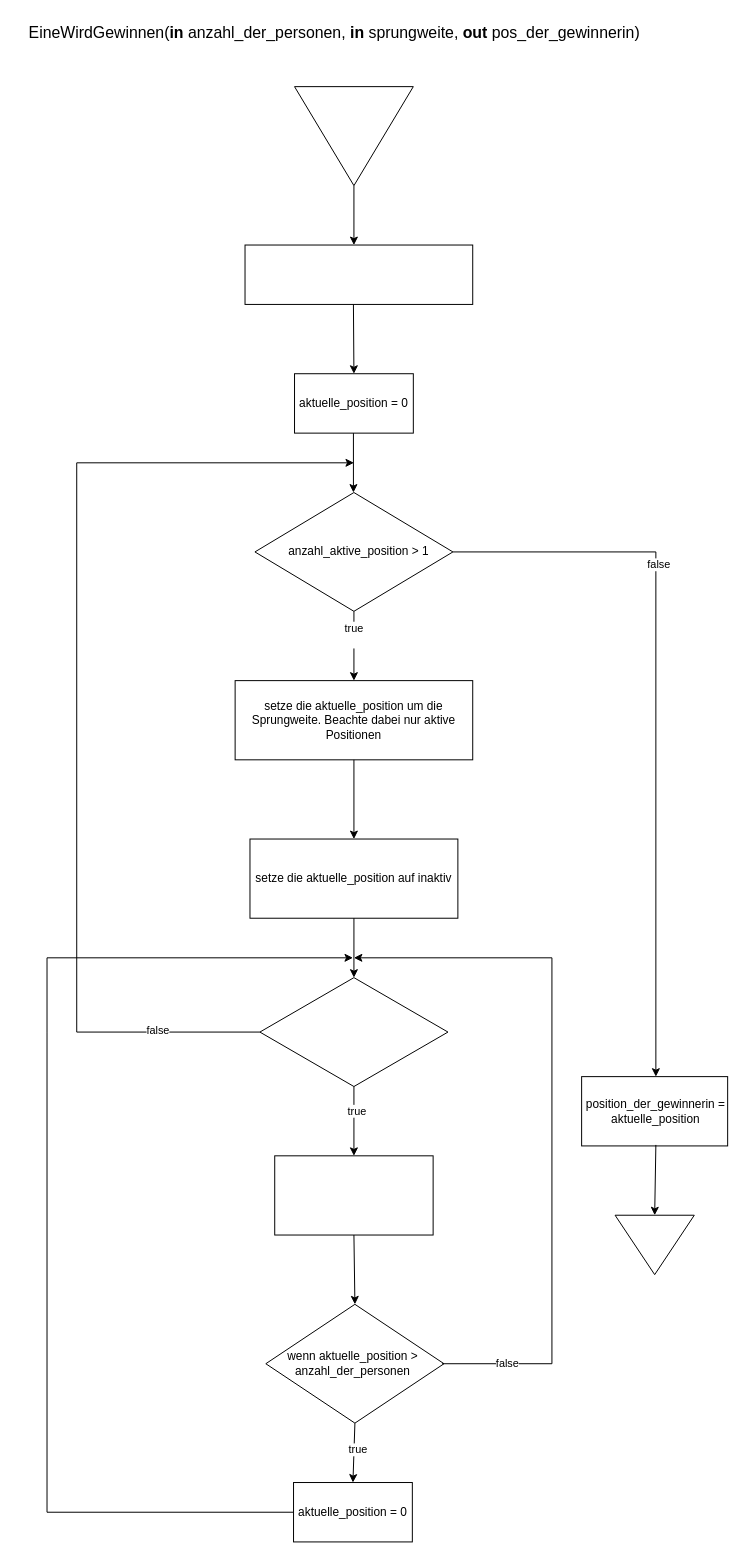
Some shapes in this 746 by 1559 pixel diagram are drawn without their labels. Each missing label, with the centre of its shape:
aktuelle_position += 1: the point at 353,1195
aktuelle_position == inaktiv: the point at 353,1032
anzahl_aktive_positionen = anzahl_der_personen: the point at 358,274
